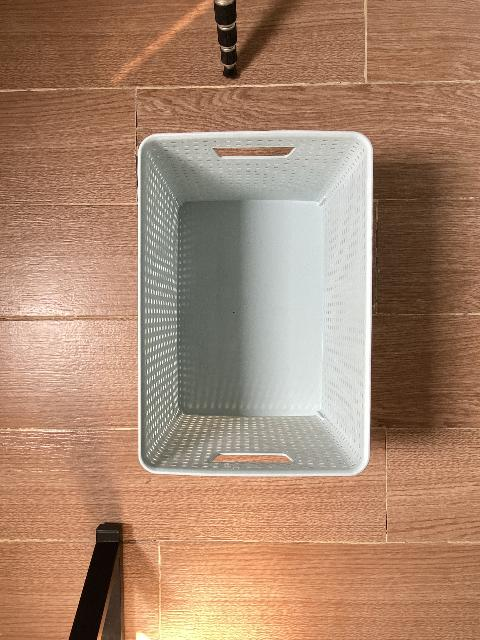cart: (136, 131, 375, 480)
